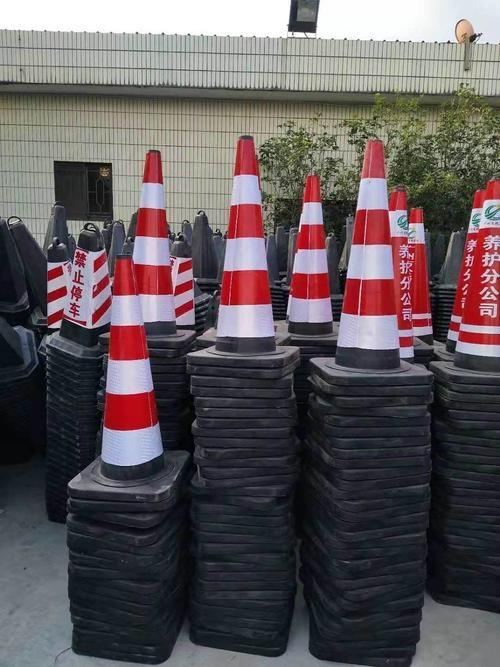cone_barrel: (78, 251, 172, 487), (325, 137, 406, 376), (209, 134, 279, 356), (125, 145, 183, 345), (446, 178, 499, 375), (281, 171, 337, 339), (58, 218, 111, 343), (393, 205, 432, 345), (42, 234, 73, 327)
